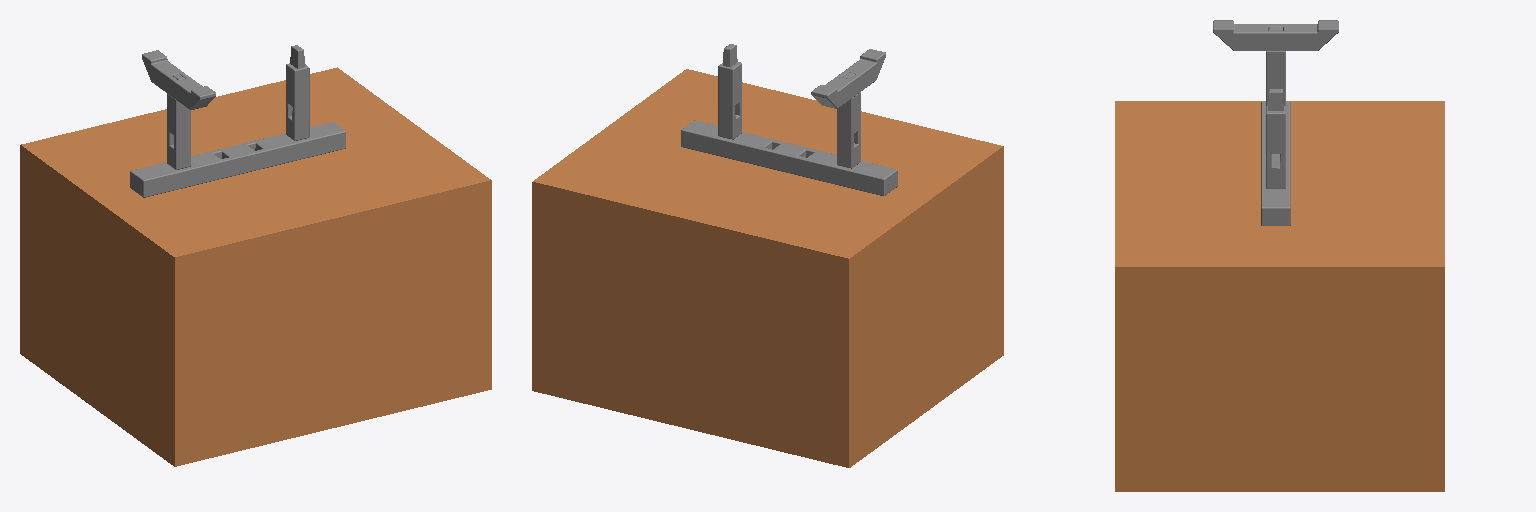
URDF robot description (table_beam_2x_1_scene_0082):
<?xml version="1.0"?>
<robot name="table_beam_2x_1_scene_0082">
  <link name="box">
    <visual>
      <material name="wood"><color rgba="0.82 0.56 0.35 1.0"/></material>
      <origin xyz="0 0 0"/>
      <geometry><box size="0.475 0.4 0.3"/></geometry>
    </visual>
    <collision>
      <origin xyz="0 0 0"/>
      <geometry><box size="0.475 0.4 0.3"/></geometry>
    </collision>
    <inertial>
      <mass value="500"/>
      <friction value="1.0"/>
      <inertia ixx="1000.0" ixy="0.0" ixz="0.0" iyy="1000.0" iyz="0.0" izz="1000.0"/>
    </inertial>
  </link>
  <link name="part_6_canonical">
    <visual>
      <origin xyz="0 0 0" rpy="0 0 0"/>
      <geometry><mesh filename="../../6/6_canonical.obj" scale="1 1 1"/></geometry>
      <material name="placed_0"><color rgba="0.6 0.6 0.6 1.0"/></material>
    </visual>
    <collision>
      <origin xyz="0 0 0" rpy="0 0 0"/>
      <geometry><mesh filename="../../6/6_canonical.obj" scale="1 1 1"/></geometry>
    </collision>
  </link>
  <joint name="part_6_canonical_joint" type="fixed">
    <parent link="box"/>
    <child link="part_6_canonical"/>
    <origin xyz="-0.029357 -0.004956 0.162666" rpy="0.000000 0.000000 0.000000"/>
  </joint>
  <link name="part_2_canonical">
    <visual>
      <origin xyz="0 0 0" rpy="0 0 0"/>
      <geometry><mesh filename="../../2/2_canonical.obj" scale="1 1 1"/></geometry>
      <material name="placed_1"><color rgba="0.6 0.6 0.6 1.0"/></material>
    </visual>
    <collision>
      <origin xyz="0 0 0" rpy="0 0 0"/>
      <geometry><mesh filename="../../2/2_canonical.obj" scale="1 1 1"/></geometry>
    </collision>
  </link>
  <joint name="part_2_canonical_joint" type="fixed">
    <parent link="box"/>
    <child link="part_2_canonical"/>
    <origin xyz="-0.118284 -0.004956 0.225384" rpy="0.000000 -1.570796 0.000000"/>
  </joint>
  <link name="part_0_canonical">
    <visual>
      <origin xyz="0 0 0" rpy="0 0 0"/>
      <geometry><mesh filename="../../0/0_canonical.obj" scale="1 1 1"/></geometry>
      <material name="placed_2"><color rgba="0.6 0.6 0.6 1.0"/></material>
    </visual>
    <collision>
      <origin xyz="0 0 0" rpy="0 0 0"/>
      <geometry><mesh filename="../../0/0_canonical.obj" scale="1 1 1"/></geometry>
    </collision>
  </link>
  <joint name="part_0_canonical_joint" type="fixed">
    <parent link="box"/>
    <child link="part_0_canonical"/>
    <origin xyz="-0.118257 -0.004956 0.292243" rpy="1.570796 0.000000 -1.570796"/>
  </joint>
  <link name="part_3_hull_0">
    <visual>
      <origin xyz="0 0 0" rpy="0 0 0"/>
      <geometry><mesh filename="../../3/coacd/decomp_0.obj" scale="1 1 1"/></geometry>
      <material name="placed_3"><color rgba="0.6 0.6 0.6 1.0"/></material>
    </visual>
    <collision>
      <origin xyz="0 0 0" rpy="0 0 0"/>
      <geometry><mesh filename="../../3/coacd/decomp_0.obj" scale="1 1 1"/></geometry>
    </collision>
  </link>
  <joint name="part_3_hull_0_joint" type="fixed">
    <parent link="box"/>
    <child link="part_3_hull_0"/>
    <origin xyz="0.059570 -0.004956 0.225384" rpy="0.000000 -1.570796 0.000000"/>
  </joint>
  <link name="part_3_hull_1">
    <visual>
      <origin xyz="0 0 0" rpy="0 0 0"/>
      <geometry><mesh filename="../../3/coacd/decomp_1.obj" scale="1 1 1"/></geometry>
      <material name="placed_4"><color rgba="0.6 0.6 0.6 1.0"/></material>
    </visual>
    <collision>
      <origin xyz="0 0 0" rpy="0 0 0"/>
      <geometry><mesh filename="../../3/coacd/decomp_1.obj" scale="1 1 1"/></geometry>
    </collision>
  </link>
  <joint name="part_3_hull_1_joint" type="fixed">
    <parent link="box"/>
    <child link="part_3_hull_1"/>
    <origin xyz="0.059570 -0.004956 0.225384" rpy="0.000000 -1.570796 0.000000"/>
  </joint>
  <link name="part_3_hull_2">
    <visual>
      <origin xyz="0 0 0" rpy="0 0 0"/>
      <geometry><mesh filename="../../3/coacd/decomp_10.obj" scale="1 1 1"/></geometry>
      <material name="placed_5"><color rgba="0.6 0.6 0.6 1.0"/></material>
    </visual>
    <collision>
      <origin xyz="0 0 0" rpy="0 0 0"/>
      <geometry><mesh filename="../../3/coacd/decomp_10.obj" scale="1 1 1"/></geometry>
    </collision>
  </link>
  <joint name="part_3_hull_2_joint" type="fixed">
    <parent link="box"/>
    <child link="part_3_hull_2"/>
    <origin xyz="0.059570 -0.004956 0.225384" rpy="0.000000 -1.570796 0.000000"/>
  </joint>
  <link name="part_3_hull_3">
    <visual>
      <origin xyz="0 0 0" rpy="0 0 0"/>
      <geometry><mesh filename="../../3/coacd/decomp_11.obj" scale="1 1 1"/></geometry>
      <material name="placed_6"><color rgba="0.6 0.6 0.6 1.0"/></material>
    </visual>
    <collision>
      <origin xyz="0 0 0" rpy="0 0 0"/>
      <geometry><mesh filename="../../3/coacd/decomp_11.obj" scale="1 1 1"/></geometry>
    </collision>
  </link>
  <joint name="part_3_hull_3_joint" type="fixed">
    <parent link="box"/>
    <child link="part_3_hull_3"/>
    <origin xyz="0.059570 -0.004956 0.225384" rpy="0.000000 -1.570796 0.000000"/>
  </joint>
  <link name="part_3_hull_4">
    <visual>
      <origin xyz="0 0 0" rpy="0 0 0"/>
      <geometry><mesh filename="../../3/coacd/decomp_12.obj" scale="1 1 1"/></geometry>
      <material name="placed_7"><color rgba="0.6 0.6 0.6 1.0"/></material>
    </visual>
    <collision>
      <origin xyz="0 0 0" rpy="0 0 0"/>
      <geometry><mesh filename="../../3/coacd/decomp_12.obj" scale="1 1 1"/></geometry>
    </collision>
  </link>
  <joint name="part_3_hull_4_joint" type="fixed">
    <parent link="box"/>
    <child link="part_3_hull_4"/>
    <origin xyz="0.059570 -0.004956 0.225384" rpy="0.000000 -1.570796 0.000000"/>
  </joint>
  <link name="part_3_hull_5">
    <visual>
      <origin xyz="0 0 0" rpy="0 0 0"/>
      <geometry><mesh filename="../../3/coacd/decomp_2.obj" scale="1 1 1"/></geometry>
      <material name="placed_8"><color rgba="0.6 0.6 0.6 1.0"/></material>
    </visual>
    <collision>
      <origin xyz="0 0 0" rpy="0 0 0"/>
      <geometry><mesh filename="../../3/coacd/decomp_2.obj" scale="1 1 1"/></geometry>
    </collision>
  </link>
  <joint name="part_3_hull_5_joint" type="fixed">
    <parent link="box"/>
    <child link="part_3_hull_5"/>
    <origin xyz="0.059570 -0.004956 0.225384" rpy="0.000000 -1.570796 0.000000"/>
  </joint>
  <link name="part_3_hull_6">
    <visual>
      <origin xyz="0 0 0" rpy="0 0 0"/>
      <geometry><mesh filename="../../3/coacd/decomp_3.obj" scale="1 1 1"/></geometry>
      <material name="placed_9"><color rgba="0.6 0.6 0.6 1.0"/></material>
    </visual>
    <collision>
      <origin xyz="0 0 0" rpy="0 0 0"/>
      <geometry><mesh filename="../../3/coacd/decomp_3.obj" scale="1 1 1"/></geometry>
    </collision>
  </link>
  <joint name="part_3_hull_6_joint" type="fixed">
    <parent link="box"/>
    <child link="part_3_hull_6"/>
    <origin xyz="0.059570 -0.004956 0.225384" rpy="0.000000 -1.570796 0.000000"/>
  </joint>
  <link name="part_3_hull_7">
    <visual>
      <origin xyz="0 0 0" rpy="0 0 0"/>
      <geometry><mesh filename="../../3/coacd/decomp_4.obj" scale="1 1 1"/></geometry>
      <material name="placed_10"><color rgba="0.6 0.6 0.6 1.0"/></material>
    </visual>
    <collision>
      <origin xyz="0 0 0" rpy="0 0 0"/>
      <geometry><mesh filename="../../3/coacd/decomp_4.obj" scale="1 1 1"/></geometry>
    </collision>
  </link>
  <joint name="part_3_hull_7_joint" type="fixed">
    <parent link="box"/>
    <child link="part_3_hull_7"/>
    <origin xyz="0.059570 -0.004956 0.225384" rpy="0.000000 -1.570796 0.000000"/>
  </joint>
  <link name="part_3_hull_8">
    <visual>
      <origin xyz="0 0 0" rpy="0 0 0"/>
      <geometry><mesh filename="../../3/coacd/decomp_5.obj" scale="1 1 1"/></geometry>
      <material name="placed_11"><color rgba="0.6 0.6 0.6 1.0"/></material>
    </visual>
    <collision>
      <origin xyz="0 0 0" rpy="0 0 0"/>
      <geometry><mesh filename="../../3/coacd/decomp_5.obj" scale="1 1 1"/></geometry>
    </collision>
  </link>
  <joint name="part_3_hull_8_joint" type="fixed">
    <parent link="box"/>
    <child link="part_3_hull_8"/>
    <origin xyz="0.059570 -0.004956 0.225384" rpy="0.000000 -1.570796 0.000000"/>
  </joint>
  <link name="part_3_hull_9">
    <visual>
      <origin xyz="0 0 0" rpy="0 0 0"/>
      <geometry><mesh filename="../../3/coacd/decomp_6.obj" scale="1 1 1"/></geometry>
      <material name="placed_12"><color rgba="0.6 0.6 0.6 1.0"/></material>
    </visual>
    <collision>
      <origin xyz="0 0 0" rpy="0 0 0"/>
      <geometry><mesh filename="../../3/coacd/decomp_6.obj" scale="1 1 1"/></geometry>
    </collision>
  </link>
  <joint name="part_3_hull_9_joint" type="fixed">
    <parent link="box"/>
    <child link="part_3_hull_9"/>
    <origin xyz="0.059570 -0.004956 0.225384" rpy="0.000000 -1.570796 0.000000"/>
  </joint>
  <link name="part_3_hull_10">
    <visual>
      <origin xyz="0 0 0" rpy="0 0 0"/>
      <geometry><mesh filename="../../3/coacd/decomp_7.obj" scale="1 1 1"/></geometry>
      <material name="placed_13"><color rgba="0.6 0.6 0.6 1.0"/></material>
    </visual>
    <collision>
      <origin xyz="0 0 0" rpy="0 0 0"/>
      <geometry><mesh filename="../../3/coacd/decomp_7.obj" scale="1 1 1"/></geometry>
    </collision>
  </link>
  <joint name="part_3_hull_10_joint" type="fixed">
    <parent link="box"/>
    <child link="part_3_hull_10"/>
    <origin xyz="0.059570 -0.004956 0.225384" rpy="0.000000 -1.570796 0.000000"/>
  </joint>
  <link name="part_3_hull_11">
    <visual>
      <origin xyz="0 0 0" rpy="0 0 0"/>
      <geometry><mesh filename="../../3/coacd/decomp_8.obj" scale="1 1 1"/></geometry>
      <material name="placed_14"><color rgba="0.6 0.6 0.6 1.0"/></material>
    </visual>
    <collision>
      <origin xyz="0 0 0" rpy="0 0 0"/>
      <geometry><mesh filename="../../3/coacd/decomp_8.obj" scale="1 1 1"/></geometry>
    </collision>
  </link>
  <joint name="part_3_hull_11_joint" type="fixed">
    <parent link="box"/>
    <child link="part_3_hull_11"/>
    <origin xyz="0.059570 -0.004956 0.225384" rpy="0.000000 -1.570796 0.000000"/>
  </joint>
  <link name="part_3_hull_12">
    <visual>
      <origin xyz="0 0 0" rpy="0 0 0"/>
      <geometry><mesh filename="../../3/coacd/decomp_9.obj" scale="1 1 1"/></geometry>
      <material name="placed_15"><color rgba="0.6 0.6 0.6 1.0"/></material>
    </visual>
    <collision>
      <origin xyz="0 0 0" rpy="0 0 0"/>
      <geometry><mesh filename="../../3/coacd/decomp_9.obj" scale="1 1 1"/></geometry>
    </collision>
  </link>
  <joint name="part_3_hull_12_joint" type="fixed">
    <parent link="box"/>
    <child link="part_3_hull_12"/>
    <origin xyz="0.059570 -0.004956 0.225384" rpy="0.000000 -1.570796 0.000000"/>
  </joint>
</robot>

--- Render facts (derived) ---
The picture shows the robot from 3 angles, left to right: view 1: azimuth 30°, elevation 25°; view 2: azimuth 150°, elevation 25°; view 3: azimuth 270°, elevation 25°; orthographic projection.
Robot: table_beam_2x_1_scene_0082 — 17 links, 16 joints (16 fixed); root link box; default pose: all joints at 0.
Visible links, largest first — view 1: box, part_6_canonical, part_0_canonical, part_2_canonical, part_3_hull_7; view 2: box, part_6_canonical, part_0_canonical, part_2_canonical; view 3: box, part_0_canonical, part_6_canonical, part_2_canonical, part_3_hull_0.
Link boxes in pixels (x1,y1,x2,y2): box: (20, 67, 491, 466); part_6_canonical: (130, 122, 345, 197); part_0_canonical: (142, 50, 215, 109); part_2_canonical: (167, 74, 190, 169); part_3_hull_7: (298, 67, 305, 139); box: (532, 69, 1003, 467); part_6_canonical: (681, 120, 897, 195); part_0_canonical: (811, 49, 885, 108); part_2_canonical: (837, 73, 860, 168); box: (1115, 101, 1444, 491); part_0_canonical: (1213, 20, 1338, 50); part_6_canonical: (1261, 102, 1290, 225); part_2_canonical: (1266, 27, 1285, 105); part_3_hull_0: (1266, 111, 1285, 153).
Size in the robot's own frame: 0.475 by 0.4 by 0.4575 metres.
16 mesh visuals loaded from 16 distinct referenced files (16 OBJ).
